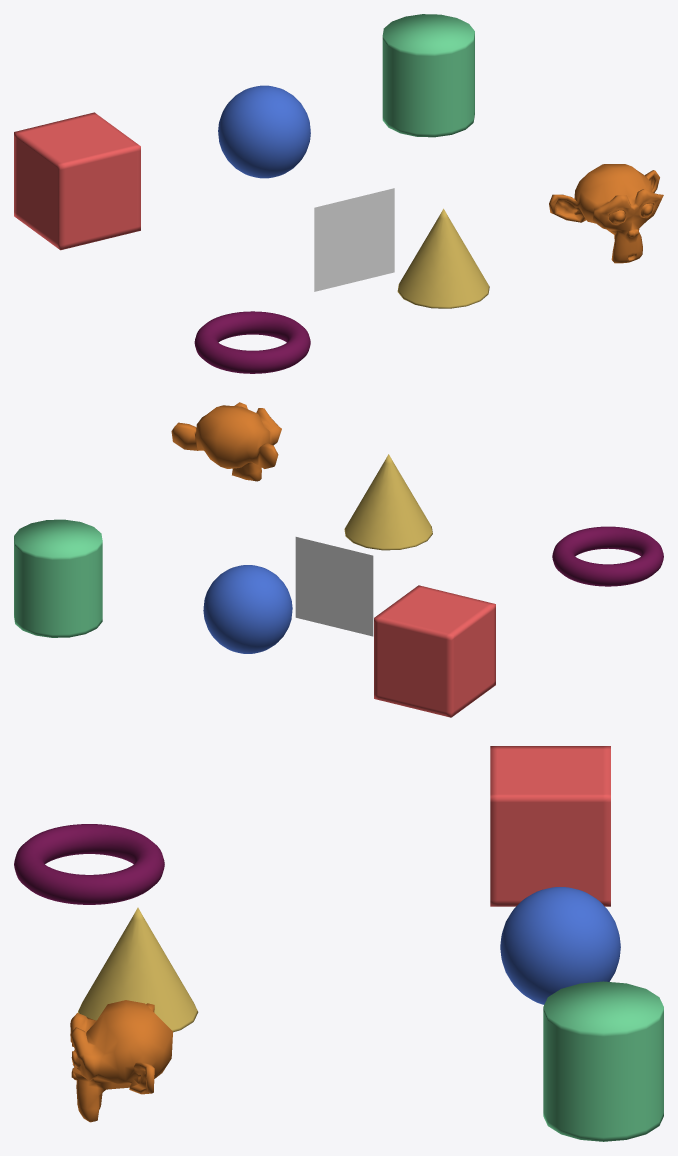
Rendered from escena.dae.
3 views of the same model, one above another, from view 1: azimuth 30°, elevation 25°; view 2: azimuth 150°, elevation 25°; view 3: azimuth 270°, elevation 25° (orthographic). The views are drawn at different scales.
Visible parts, largest first — view 1: Cube, Cylinder, bsp_Plane, Sphere, Suzanne, cono, Torus; view 2: Cube, Cylinder, bsp_Plane, Sphere, Suzanne, cono, Torus; view 3: Cube, Cylinder, Sphere, Torus, Suzanne, cono.
Part boxes in pixels (x1,y1,x2,y2): Cube: (14, 112, 140, 250); Cylinder: (382, 14, 474, 137); bsp_Plane: (314, 188, 394, 291); Sphere: (218, 85, 310, 178); Suzanne: (549, 164, 663, 263); cono: (397, 208, 489, 308); Torus: (194, 311, 310, 373); Cube: (374, 585, 495, 717); Cylinder: (14, 519, 102, 637); bsp_Plane: (295, 537, 373, 636); Sphere: (203, 565, 292, 653); Suzanne: (171, 402, 281, 481); cono: (344, 454, 432, 550); Torus: (552, 526, 663, 586); Cube: (490, 746, 610, 906); Cylinder: (543, 981, 663, 1141); Sphere: (500, 887, 620, 1004); Torus: (14, 824, 164, 904); Suzanne: (70, 1000, 172, 1122); cono: (77, 907, 198, 1032).
Size of the model in its own units: 11.94 by 10.77 by 3.
